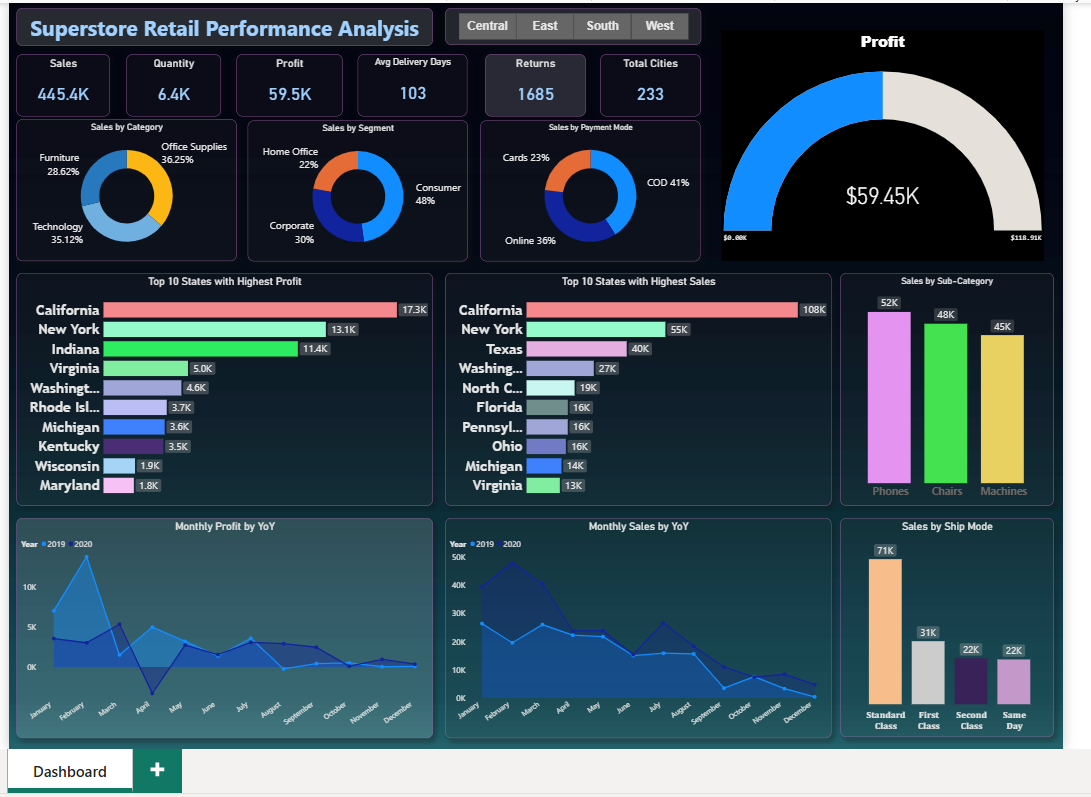

The dashboard page shown, as its layout file describes it:
{"tool":"powerbi","page":{"name":"Dashboard","canvas":[2400,1700],"ordinal":0},"visuals":[{"type":"donutChart","title":"Sales by Category","fields":{"Category":["SuperStore_Sales_Dataset.Category"],"Y":["Sum(SuperStore_Sales_Dataset.Sales)"]},"box":[15.8,265.4,501.9,323.2],"z":0},{"type":"clusteredColumnChart","title":"Sales by Sub-Category","fields":{"Category":["SuperStore_Sales_Dataset.Sub-Category"],"Y":["Sum(SuperStore_Sales_Dataset.Sales)"]},"box":[1894.4,614.8,486.1,530.8],"z":1000},{"type":"clusteredColumnChart","title":"Sales by Ship Mode","fields":{"Category":["SuperStore_Sales_Dataset.Ship Mode"],"Y":["Sum(SuperStore_Sales_Dataset.Sales)"]},"box":[1894.4,1174.5,486.1,499.2],"z":2000},{"type":"areaChart","title":"Monthly Sales by YoY ","fields":{"Y":["Sum(SuperStore_Sales_Dataset.Sales)"],"Category":["SuperStore_Sales_Dataset.Order Date.Variation.Date Hierarchy.Month","SuperStore_Sales_Dataset.Order Date.Variation.Date Hierarchy.Day"],"Series":["SuperStore_Sales_Dataset.Order Date.Variation.Date Hierarchy.Year"]},"box":[993.2,1174.5,880.2,501.9],"z":3000},{"type":"areaChart","title":"Monthly Profit by YoY ","fields":{"Category":["SuperStore_Sales_Dataset.Order Date.Variation.Date Hierarchy.Month","SuperStore_Sales_Dataset.Order Date.Variation.Date Hierarchy.Day"],"Series":["SuperStore_Sales_Dataset.Order Date.Variation.Date Hierarchy.Year"],"Y":["Sum(SuperStore_Sales_Dataset.Profit)"]},"box":[15.8,1174.5,948.5,501.9],"z":4000},{"type":"donutChart","title":"Sales by Segment","fields":{"Category":["SuperStore_Sales_Dataset.Segment"],"Y":["Sum(SuperStore_Sales_Dataset.Sales)"]},"box":[543.9,268,501.9,320.6],"z":6000},{"type":"donutChart","title":"Sales by Payment Mode","fields":{"Category":["SuperStore_Sales_Dataset.Payment Mode"],"Y":["Sum(SuperStore_Sales_Dataset.Sales)"]},"box":[1074.7,268,501.9,320.6],"z":7000},{"type":"slicer","fields":{"Values":["SuperStore_Sales_Dataset.Region"]},"box":[993.2,10.5,583.3,84.1],"z":8000},{"type":"textbox","box":[15.8,10.5,948.5,86.7],"z":9000},{"type":"card","title":"Sales","fields":{"Values":["Sum(SuperStore_Sales_Dataset.Sales)"]},"box":[15.8,115.6,212.8,141.9],"z":10000},{"type":"card","title":"Quantity","fields":{"Values":["Sum(SuperStore_Sales_Dataset.Quantity)"]},"box":[268,115.6,215.5,141.9],"z":11000},{"type":"card","title":"Profit","fields":{"Values":["Sum(SuperStore_Sales_Dataset.Profit)"]},"box":[517.6,115.6,241.7,141.9],"z":12000},{"type":"card","title":"Avg Delivery Days","fields":{"Values":["Avg(SuperStore_Sales_Dataset.AvgDelivery)"]},"box":[796.1,115.6,249.6,141.9],"z":13000},{"type":"card","title":"Returns","fields":{"Values":["CountNonNull(SuperStore_Sales_Dataset.Returns)"]},"box":[1085.2,115.6,228.6,141.9],"z":14000},{"type":"card","title":"Total Cities","fields":{"Values":["Count(SuperStore_Sales_Dataset.City)"]},"box":[1347.9,115.6,228.6,141.9],"z":15000},{"type":"clusteredBarChart","title":"Top 10 States with Highest Sales","fields":{"Category":["SuperStore_Sales_Dataset.State"],"Y":["Sum(SuperStore_Sales_Dataset.Sales)"]},"box":[993.2,614.8,880.2,530.8],"z":16000},{"type":"clusteredBarChart","title":"Top 10 States with Highest Profit ","fields":{"Category":["SuperStore_Sales_Dataset.State"],"Y":["Sum(SuperStore_Sales_Dataset.Profit)"]},"box":[15.8,614.8,948.5,530.8],"z":17000},{"type":"gauge","title":"Profit","fields":{"Y":["Sum(SuperStore_Sales_Dataset.Profit)"]},"box":[1622.5,62.5,735,525],"z":17001}]}

Visuals, with their boxes on the page's 2400x1700 design canvas (x1, y1, x2, y2). These are canvas units, not pixel positions in the 1091x797 screenshot, which may show the page scaled, cropped or inside an application window:
"Sales by Category" donutChart: x1=16 y1=265 x2=518 y2=589
"Sales by Sub-Category" clusteredColumnChart: x1=1894 y1=615 x2=2380 y2=1146
"Sales by Ship Mode" clusteredColumnChart: x1=1894 y1=1174 x2=2380 y2=1674
"Monthly Sales by YoY " areaChart: x1=993 y1=1174 x2=1873 y2=1676
"Monthly Profit by YoY " areaChart: x1=16 y1=1174 x2=964 y2=1676
"Sales by Segment" donutChart: x1=544 y1=268 x2=1046 y2=589
"Sales by Payment Mode" donutChart: x1=1075 y1=268 x2=1577 y2=589
slicer - SuperStore_Sales_Dataset.Region: x1=993 y1=10 x2=1576 y2=95
textbox: x1=16 y1=10 x2=964 y2=97
"Sales" card: x1=16 y1=116 x2=229 y2=258
"Quantity" card: x1=268 y1=116 x2=484 y2=258
"Profit" card: x1=518 y1=116 x2=759 y2=258
"Avg Delivery Days" card: x1=796 y1=116 x2=1046 y2=258
"Returns" card: x1=1085 y1=116 x2=1314 y2=258
"Total Cities" card: x1=1348 y1=116 x2=1576 y2=258
"Top 10 States with Highest Sales" clusteredBarChart: x1=993 y1=615 x2=1873 y2=1146
"Top 10 States with Highest Profit " clusteredBarChart: x1=16 y1=615 x2=964 y2=1146
"Profit" gauge: x1=1622 y1=62 x2=2358 y2=588
